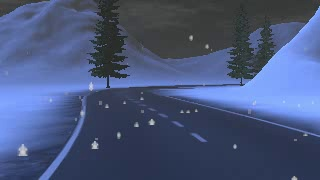Lane: (43, 84, 319, 179)
